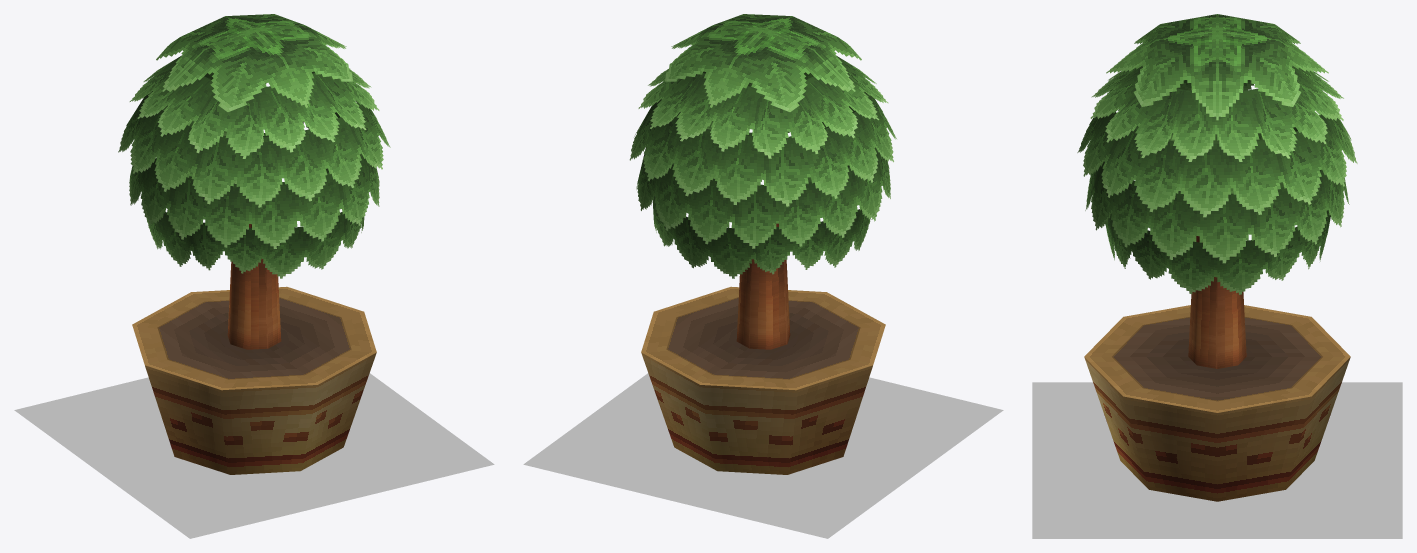
File: Foliage plant.fbx
3 views of the same model, side by side, from view 1: azimuth 30°, elevation 25°; view 2: azimuth 150°, elevation 25°; view 3: azimuth 270°, elevation 25° (orthographic). The views are drawn at different scales.
Parts seen in each view (by area): view 1: plant, shadow; view 2: plant, shadow; view 3: plant, shadow.
Boxes of the visible parts, box(x1,y1,x2,y2) form: plant: box(118, 14, 390, 474); shadow: box(14, 373, 494, 538); plant: box(629, 14, 896, 474); shadow: box(523, 373, 1003, 538); plant: box(1077, 14, 1357, 501); shadow: box(1032, 382, 1402, 538).
Size of the model in its own units: 1 by 1.29 by 1.
